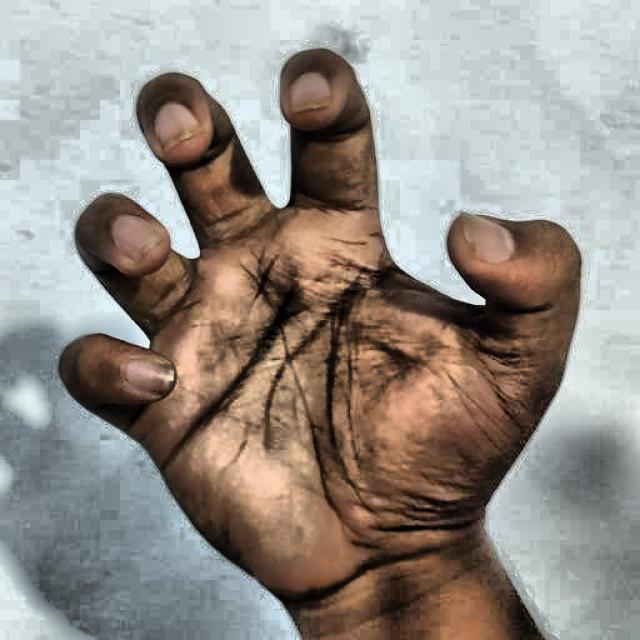Ja: (41, 40, 598, 632)
